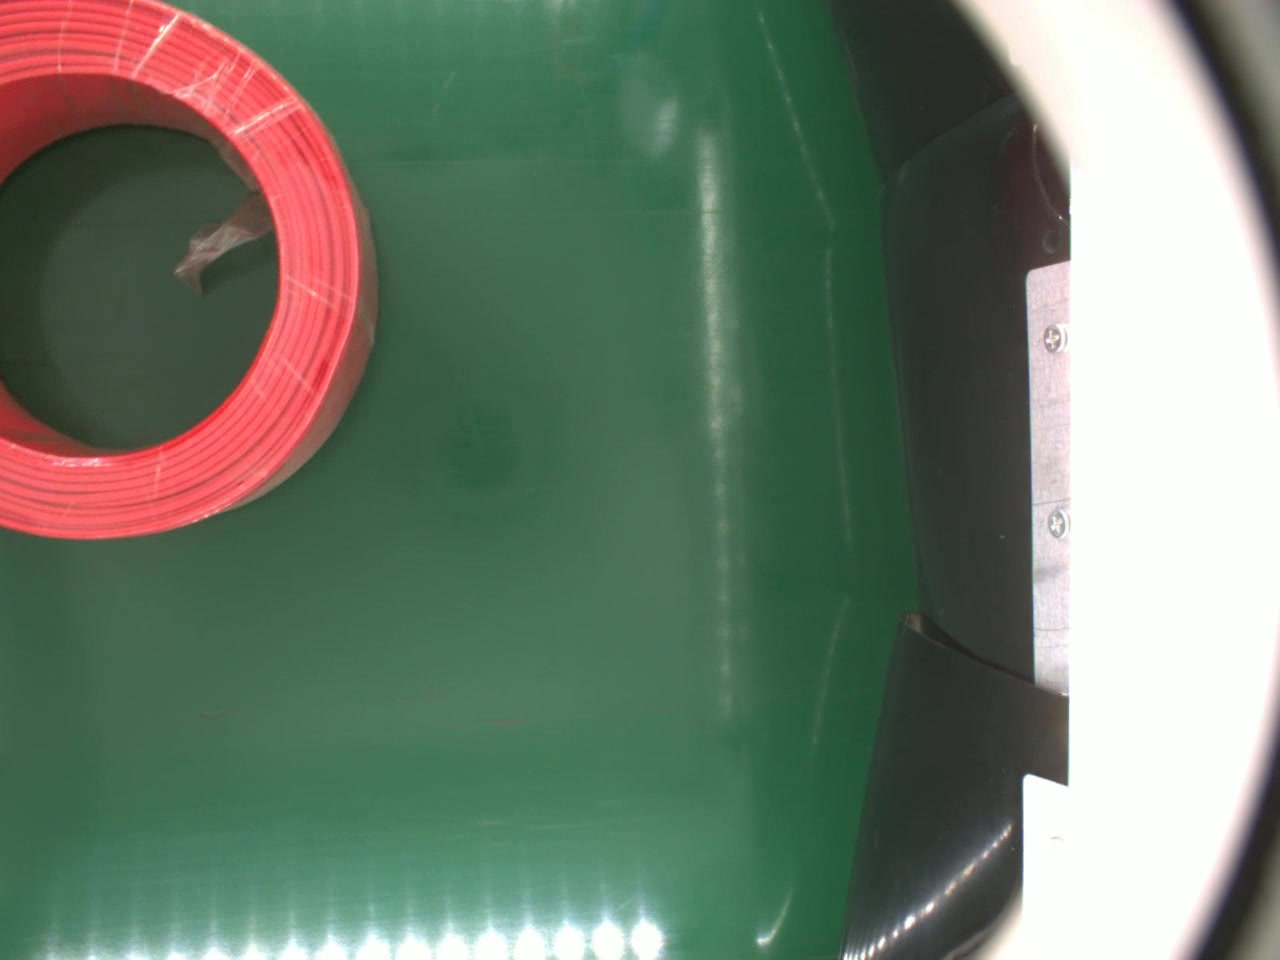red: (0, 0, 379, 547)
